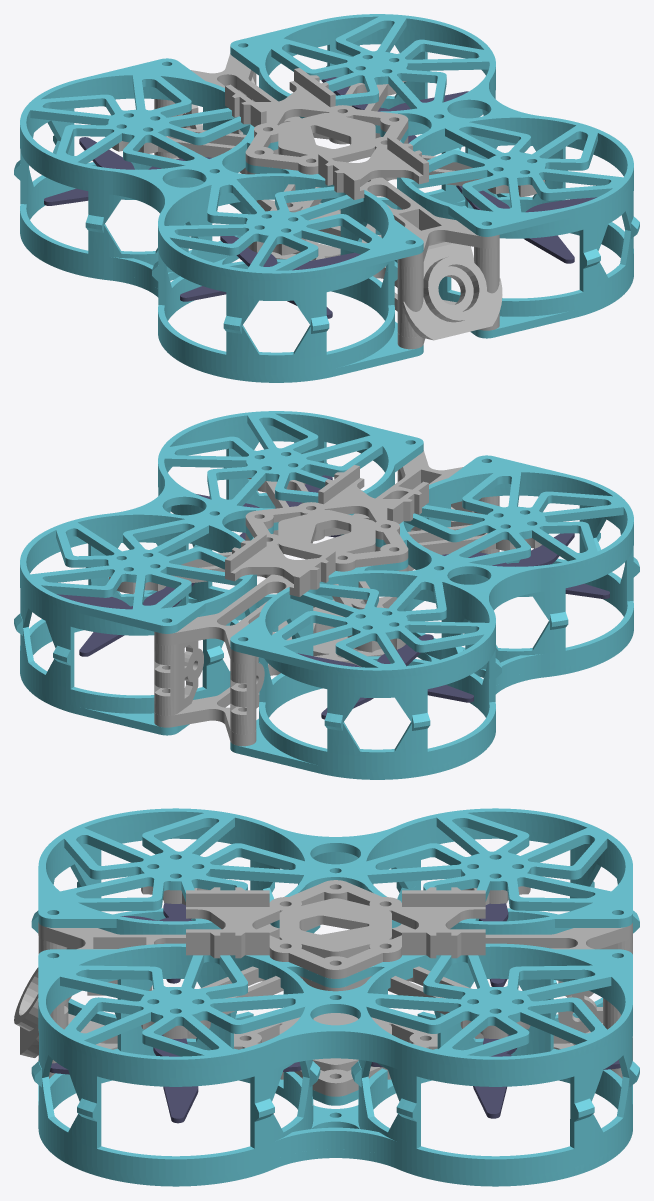
The model's file is bateleur.v0.2.3.glb.
The picture shows the model from 3 angles, top to bottom: view 1: azimuth 30°, elevation 25°; view 2: azimuth 150°, elevation 25°; view 3: azimuth 270°, elevation 25°; orthographic projection. The views are drawn at different scales.
Parts seen in each view (by area): view 1: Propguards-Topleft, Propguards-Topleft.001, Propguards-Bottomleft, Batteryplate, Coretop, Antennamount, Propguards-Bottomleft.001, Corebottom, Prop.1, Prop.3, Prop.4, Prop.2; view 2: Propguards-Topleft, Propguards-Topleft.001, Propguards-Bottomleft, Batteryplate, Propguards-Bottomleft.001, Coretop, Corebottom, Camera Bracket.001, Camera Bracket, Prop.2, Prop.4, Prop.3 (+1 smaller); view 3: Propguards-Topleft.001, Propguards-Topleft, Propguards-Bottomleft.001, Batteryplate, Coretop, Corebottom, Antennamount, Propguards-Bottomleft, Prop.1, Camera Bracket.001, Prop.2, Prop.3 (+1 smaller).
Boxes of the visible parts, x1=… form: Propguards-Topleft: x1=14, y1=58, x2=423, y2=333; Propguards-Topleft.001: x1=230, y1=14, x2=639, y2=268; Propguards-Bottomleft: x1=20, y1=140, x2=423, y2=382; Batteryplate: x1=225, y1=68, x2=428, y2=199; Coretop: x1=112, y1=53, x2=544, y2=267; Antennamount: x1=397, y1=242, x2=502, y2=340; Propguards-Bottomleft.001: x1=320, y1=75, x2=633, y2=338; Corebottom: x1=173, y1=157, x2=499, y2=349; Prop.1: x1=456, y1=185, x2=596, y2=263; Prop.3: x1=180, y1=236, x2=360, y2=318; Prop.4: x1=44, y1=137, x2=211, y2=205; Prop.2: x1=321, y1=77, x2=468, y2=143; Propguards-Topleft: x1=230, y1=455, x2=639, y2=730; Propguards-Topleft.001: x1=14, y1=411, x2=423, y2=665; Propguards-Bottomleft: x1=230, y1=537, x2=633, y2=779; Batteryplate: x1=225, y1=465, x2=428, y2=596; Propguards-Bottomleft.001: x1=20, y1=472, x2=333, y2=735; Coretop: x1=109, y1=450, x2=541, y2=664; Corebottom: x1=154, y1=564, x2=414, y2=746; Camera Bracket.001: x1=154, y1=640, x2=203, y2=715; Camera Bracket: x1=230, y1=656, x2=264, y2=734; Prop.2: x1=57, y1=583, x2=194, y2=656; Prop.4: x1=296, y1=634, x2=473, y2=719; Prop.3: x1=442, y1=533, x2=609, y2=598; Propguards-Topleft.001: x1=31, y1=943, x2=639, y2=1121; Propguards-Topleft: x1=31, y1=808, x2=639, y2=984; Propguards-Bottomleft.001: x1=38, y1=1014, x2=632, y2=1186; Batteryplate: x1=186, y1=880, x2=485, y2=978; Coretop: x1=38, y1=886, x2=632, y2=1038; Corebottom: x1=38, y1=1013, x2=622, y2=1096; Antennamount: x1=14, y1=937, x2=71, y2=1063; Propguards-Bottomleft: x1=68, y1=886, x2=632, y2=1035; Prop.1: x1=50, y1=1035, x2=301, y2=1123; Camera Bracket.001: x1=558, y1=991, x2=632, y2=1060; Prop.2: x1=371, y1=1035, x2=620, y2=1118; Prop.3: x1=120, y1=903, x2=192, y2=983.
Size of the model in its own units: 119 by 33 by 125.
